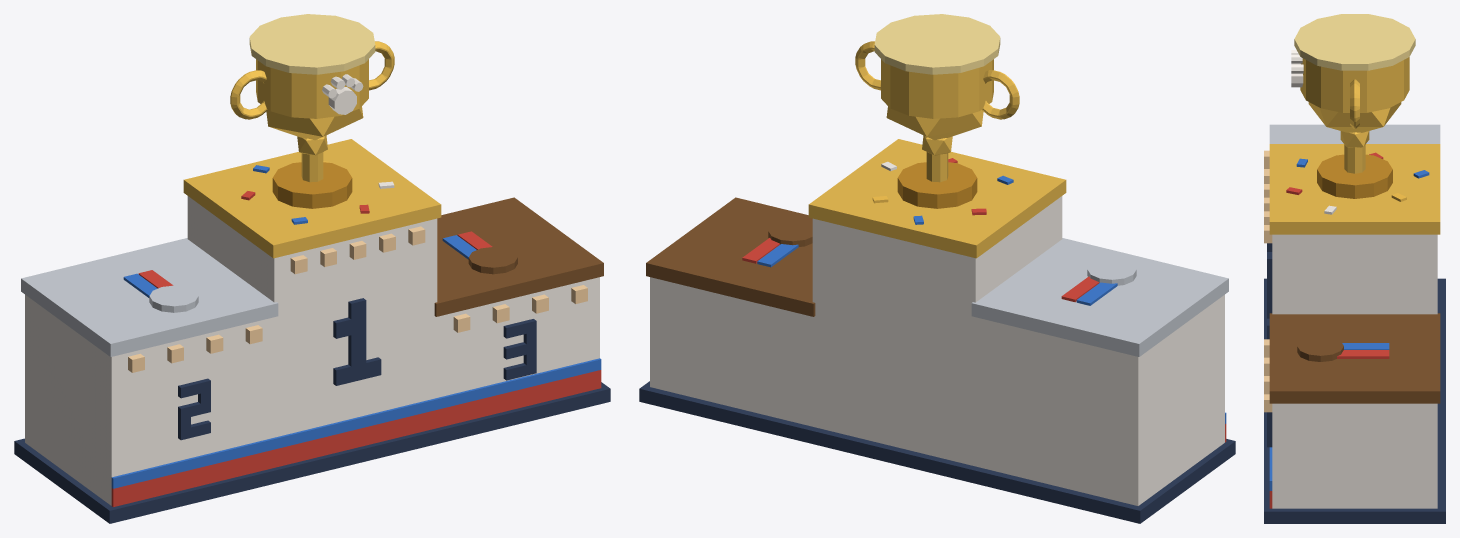
Rendered from CatCafe_Decor_VictoryPodium.glb.
3 views of the same model, side by side, from view 1: azimuth 30°, elevation 25°; view 2: azimuth 150°, elevation 25°; view 3: azimuth 270°, elevation 25° (orthographic). The views are drawn at different scales.
Parts seen in each view (by area): view 1: CatCafe_Decor_VictoryPodium, CatCafe_Decor_VictoryPodium_Trophy_Spin, CatCafe_Decor_VictoryPodium_Glow; view 2: CatCafe_Decor_VictoryPodium, CatCafe_Decor_VictoryPodium_Trophy_Spin; view 3: CatCafe_Decor_VictoryPodium, CatCafe_Decor_VictoryPodium_Trophy_Spin, CatCafe_Decor_VictoryPodium_Glow.
Part boxes in pixels (x1,y1,x2,y2): CatCafe_Decor_VictoryPodium: (14, 139, 610, 523); CatCafe_Decor_VictoryPodium_Trophy_Spin: (230, 14, 394, 208); CatCafe_Decor_VictoryPodium_Glow: (128, 226, 587, 372); CatCafe_Decor_VictoryPodium: (639, 139, 1235, 523); CatCafe_Decor_VictoryPodium_Trophy_Spin: (855, 14, 1019, 208); CatCafe_Decor_VictoryPodium: (1264, 124, 1445, 523); CatCafe_Decor_VictoryPodium_Trophy_Spin: (1291, 14, 1415, 198); CatCafe_Decor_VictoryPodium_Glow: (1264, 150, 1272, 412).
Size of the model in its own units: 4 by 2.96 by 1.32.
1 material, 1 textured.
